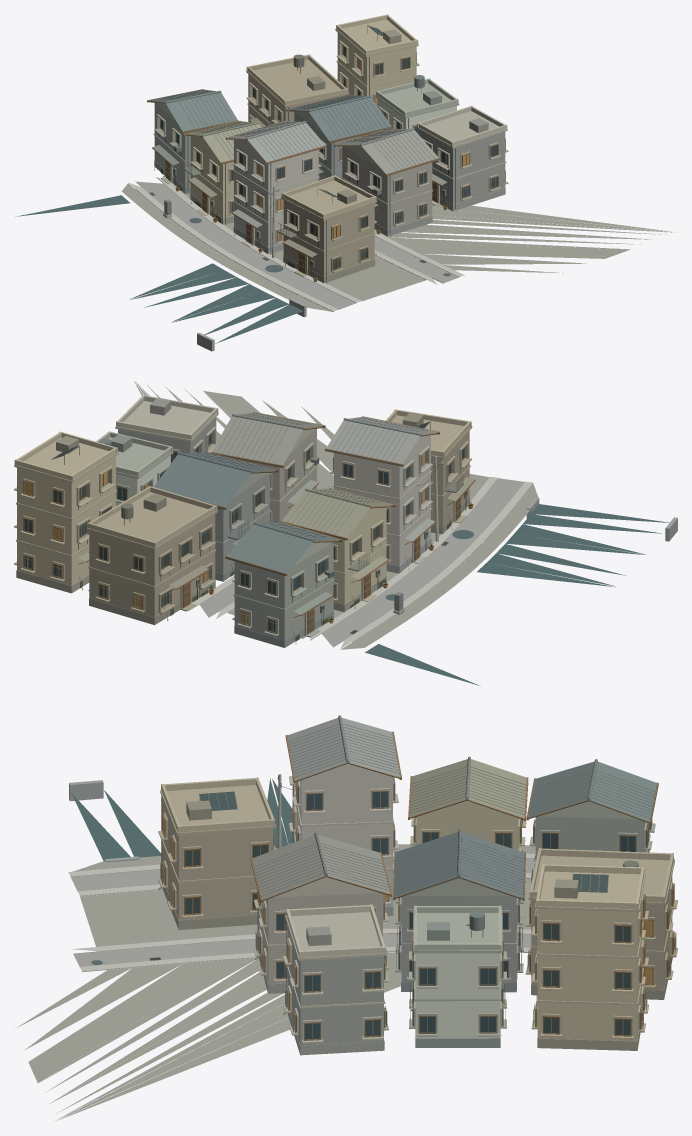
File: street_8_5.glb
The picture shows the model from 3 angles, top to bottom: view 1: azimuth 30°, elevation 25°; view 2: azimuth 150°, elevation 25°; view 3: azimuth 270°, elevation 25°; orthographic projection. The views are drawn at different scales.
Parts seen in each view (by area): view 1: trim.048, ground.009, plaster.048, concrete.040, roof_metal.048, graybrick.047, roof_tile.033, water.010, road.045, wood.048, metal.048, paving.035 (+2 smaller); view 2: plaster.048, trim.048, concrete.040, roof_metal.048, roof_tile.033, water.010, ground.009, wood.048, road.045, metal.048, graybrick.047, paving.035 (+3 smaller); view 3: plaster.048, ground.009, trim.048, concrete.040, roof_metal.048, graybrick.047, roof_tile.033, wood.048, glass.048, metal.048, limewash.012, road.045 (+2 smaller).
Part boxes in pixels (x1,y1,x2,y2): trim.048: (153, 19, 508, 276); ground.009: (121, 176, 675, 311); plaster.048: (155, 14, 507, 247); concrete.040: (154, 74, 432, 276); roof_metal.048: (153, 29, 488, 257); graybrick.047: (154, 130, 505, 351); roof_tile.033: (149, 89, 414, 145); water.010: (15, 195, 302, 343); road.045: (135, 181, 458, 309); wood.048: (147, 45, 505, 274); metal.048: (164, 25, 499, 283); paving.035: (129, 176, 464, 311); plaster.048: (14, 395, 471, 604); trim.048: (14, 401, 472, 637); concrete.040: (89, 428, 469, 640); roof_metal.048: (56, 398, 474, 614); roof_tile.033: (154, 413, 421, 573); water.010: (365, 504, 669, 685); ground.009: (134, 381, 538, 649); wood.048: (23, 412, 464, 641); road.045: (199, 478, 524, 647); metal.048: (22, 413, 467, 633); graybrick.047: (16, 417, 677, 647); paving.035: (187, 476, 533, 648); plaster.048: (161, 763, 673, 1041); ground.009: (15, 844, 535, 1120); trim.048: (158, 776, 677, 1043); concrete.040: (163, 774, 672, 990); roof_metal.048: (186, 718, 578, 945); graybrick.047: (69, 780, 672, 1055); roof_tile.033: (314, 715, 656, 897); wood.048: (162, 731, 674, 1040); glass.048: (163, 779, 672, 1039); metal.048: (158, 723, 676, 1032); limewash.012: (415, 953, 500, 1038); road.045: (70, 858, 534, 966).
Size of the model in its own units: 50.9 by 11.91 by 40.81.
